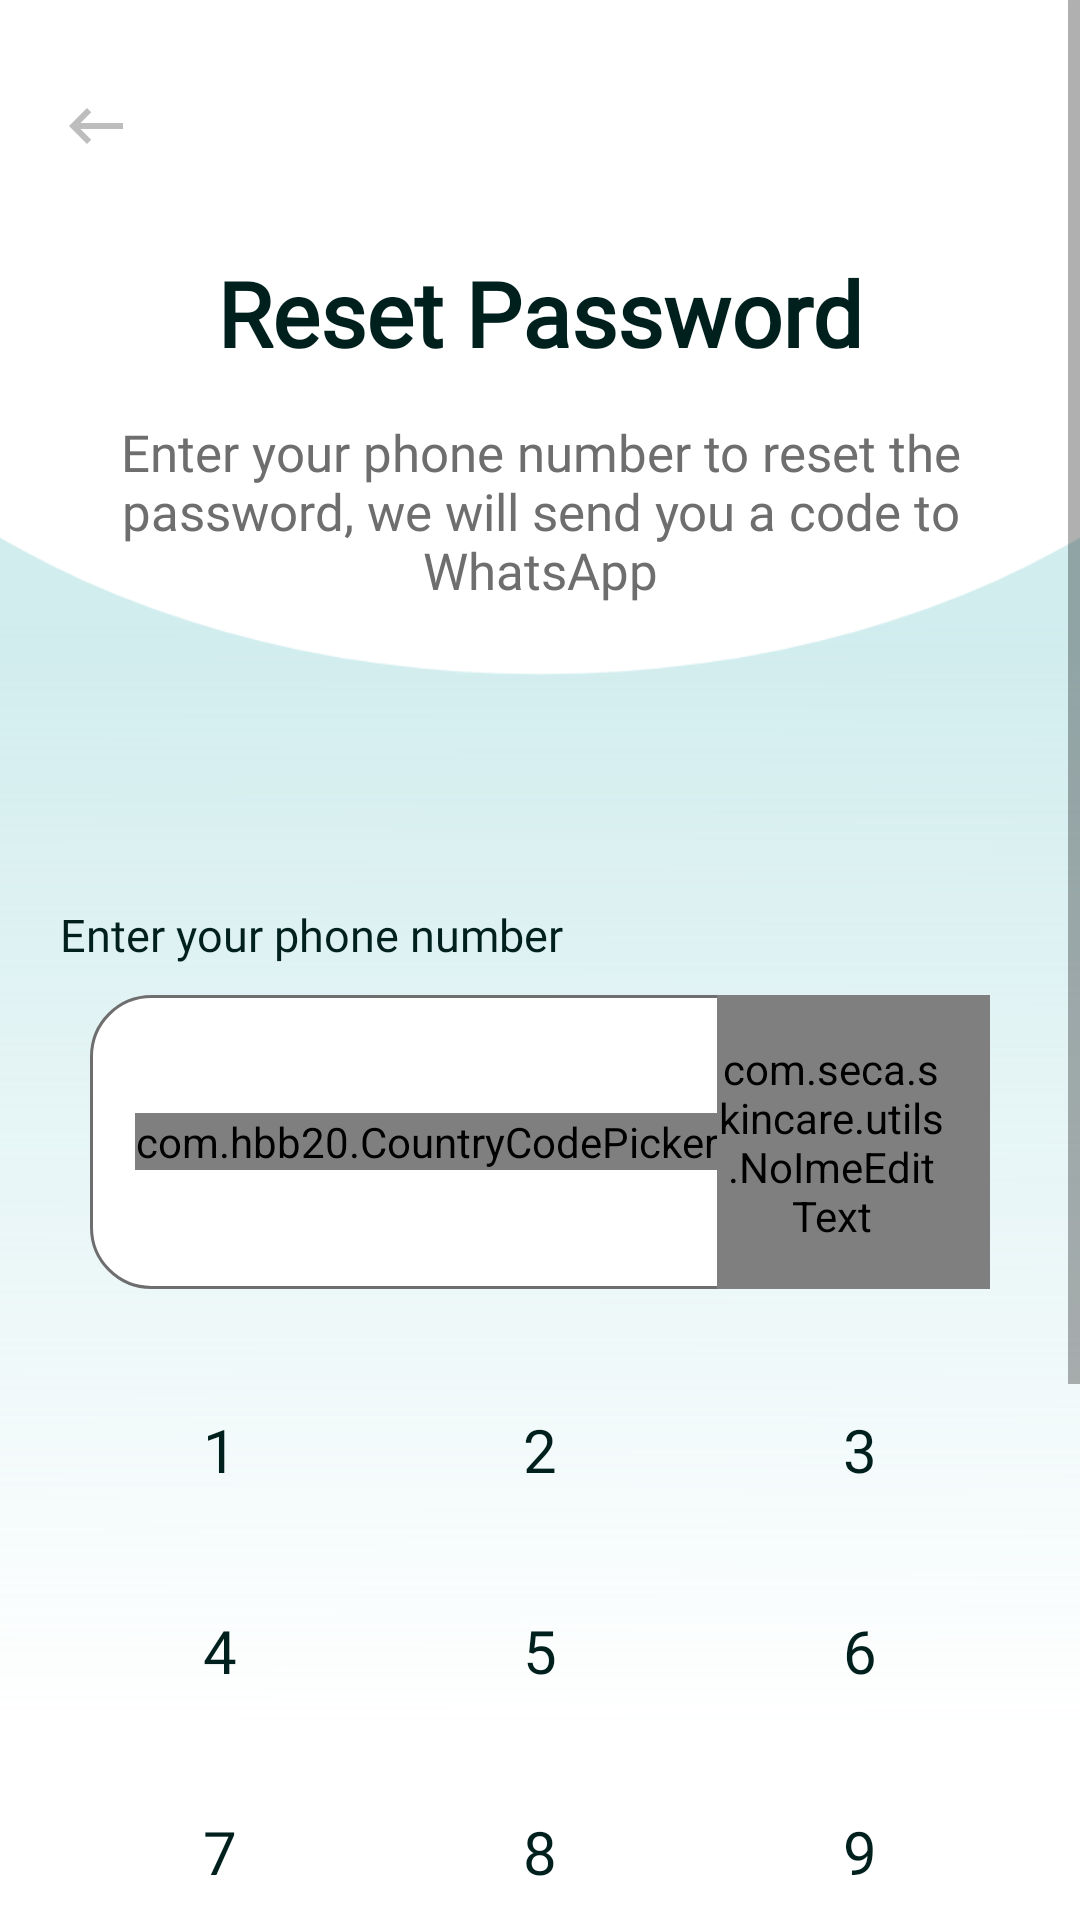

Screen size 1080w x 1920h. Icon name, then its box in pixels as (x1, y1, x2, y2):
back: (69, 108, 123, 144)
